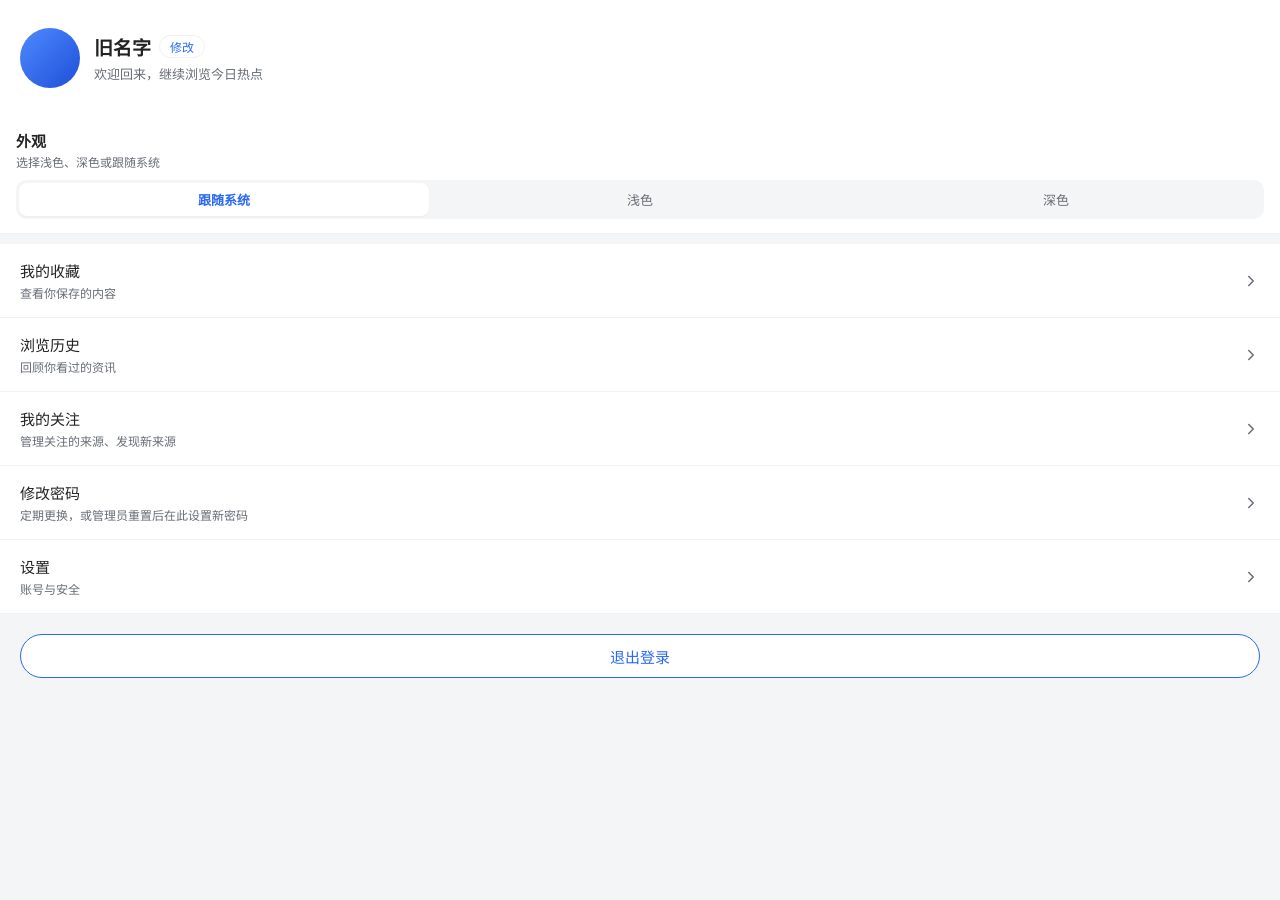
Test case: views/Profile 修改昵称 › 点「修改」打开编辑器并预填当前昵称
The width and height of the screenshot is (1280, 900).
Step 1. Click the button with aria-label "修改昵称" → point(182, 46), box [159, 35, 205, 58]
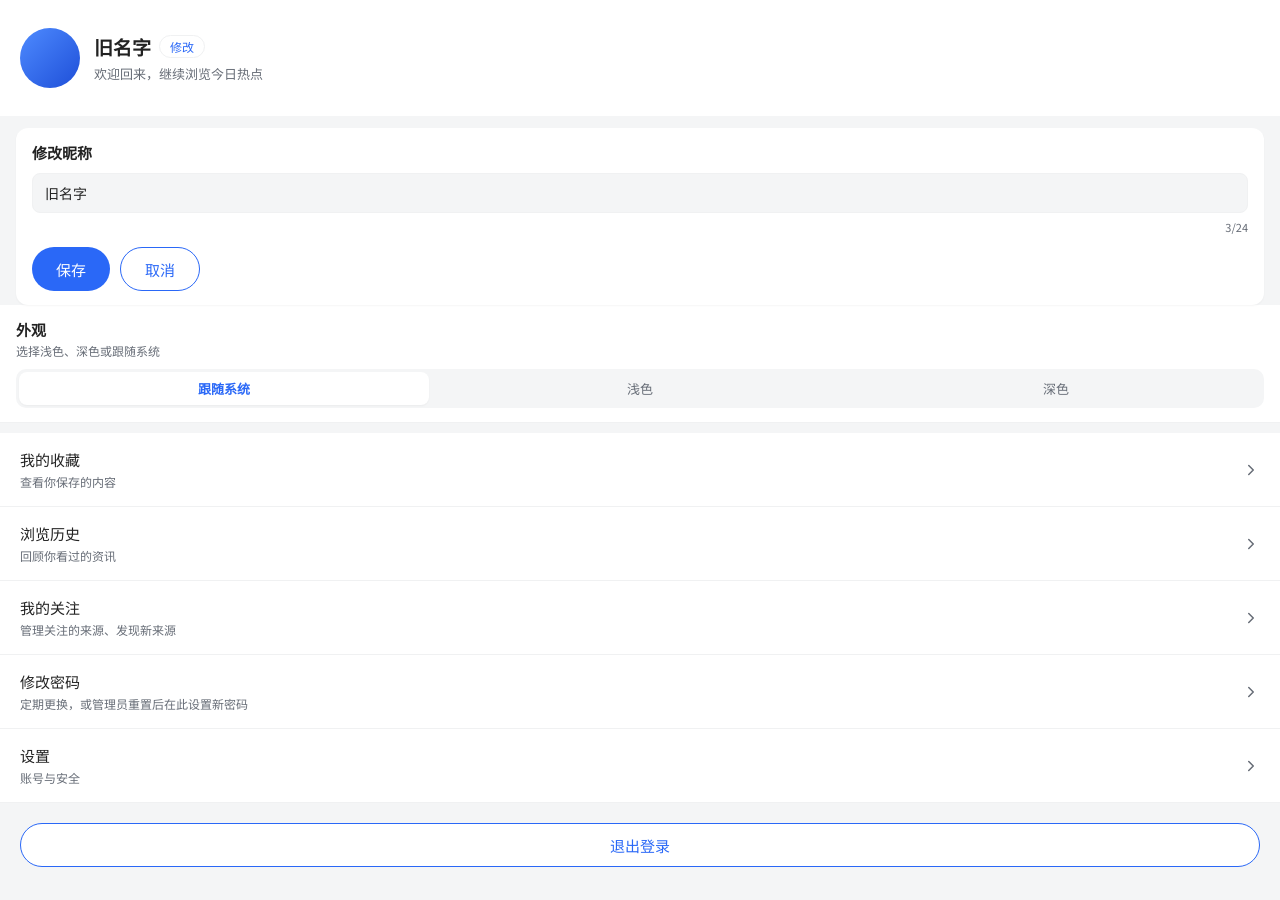
Expected: the field named "新昵称" holds "旧名字", [32, 173, 1248, 213]
Expected: the text "3/24" is shown, [1225, 219, 1248, 235]
